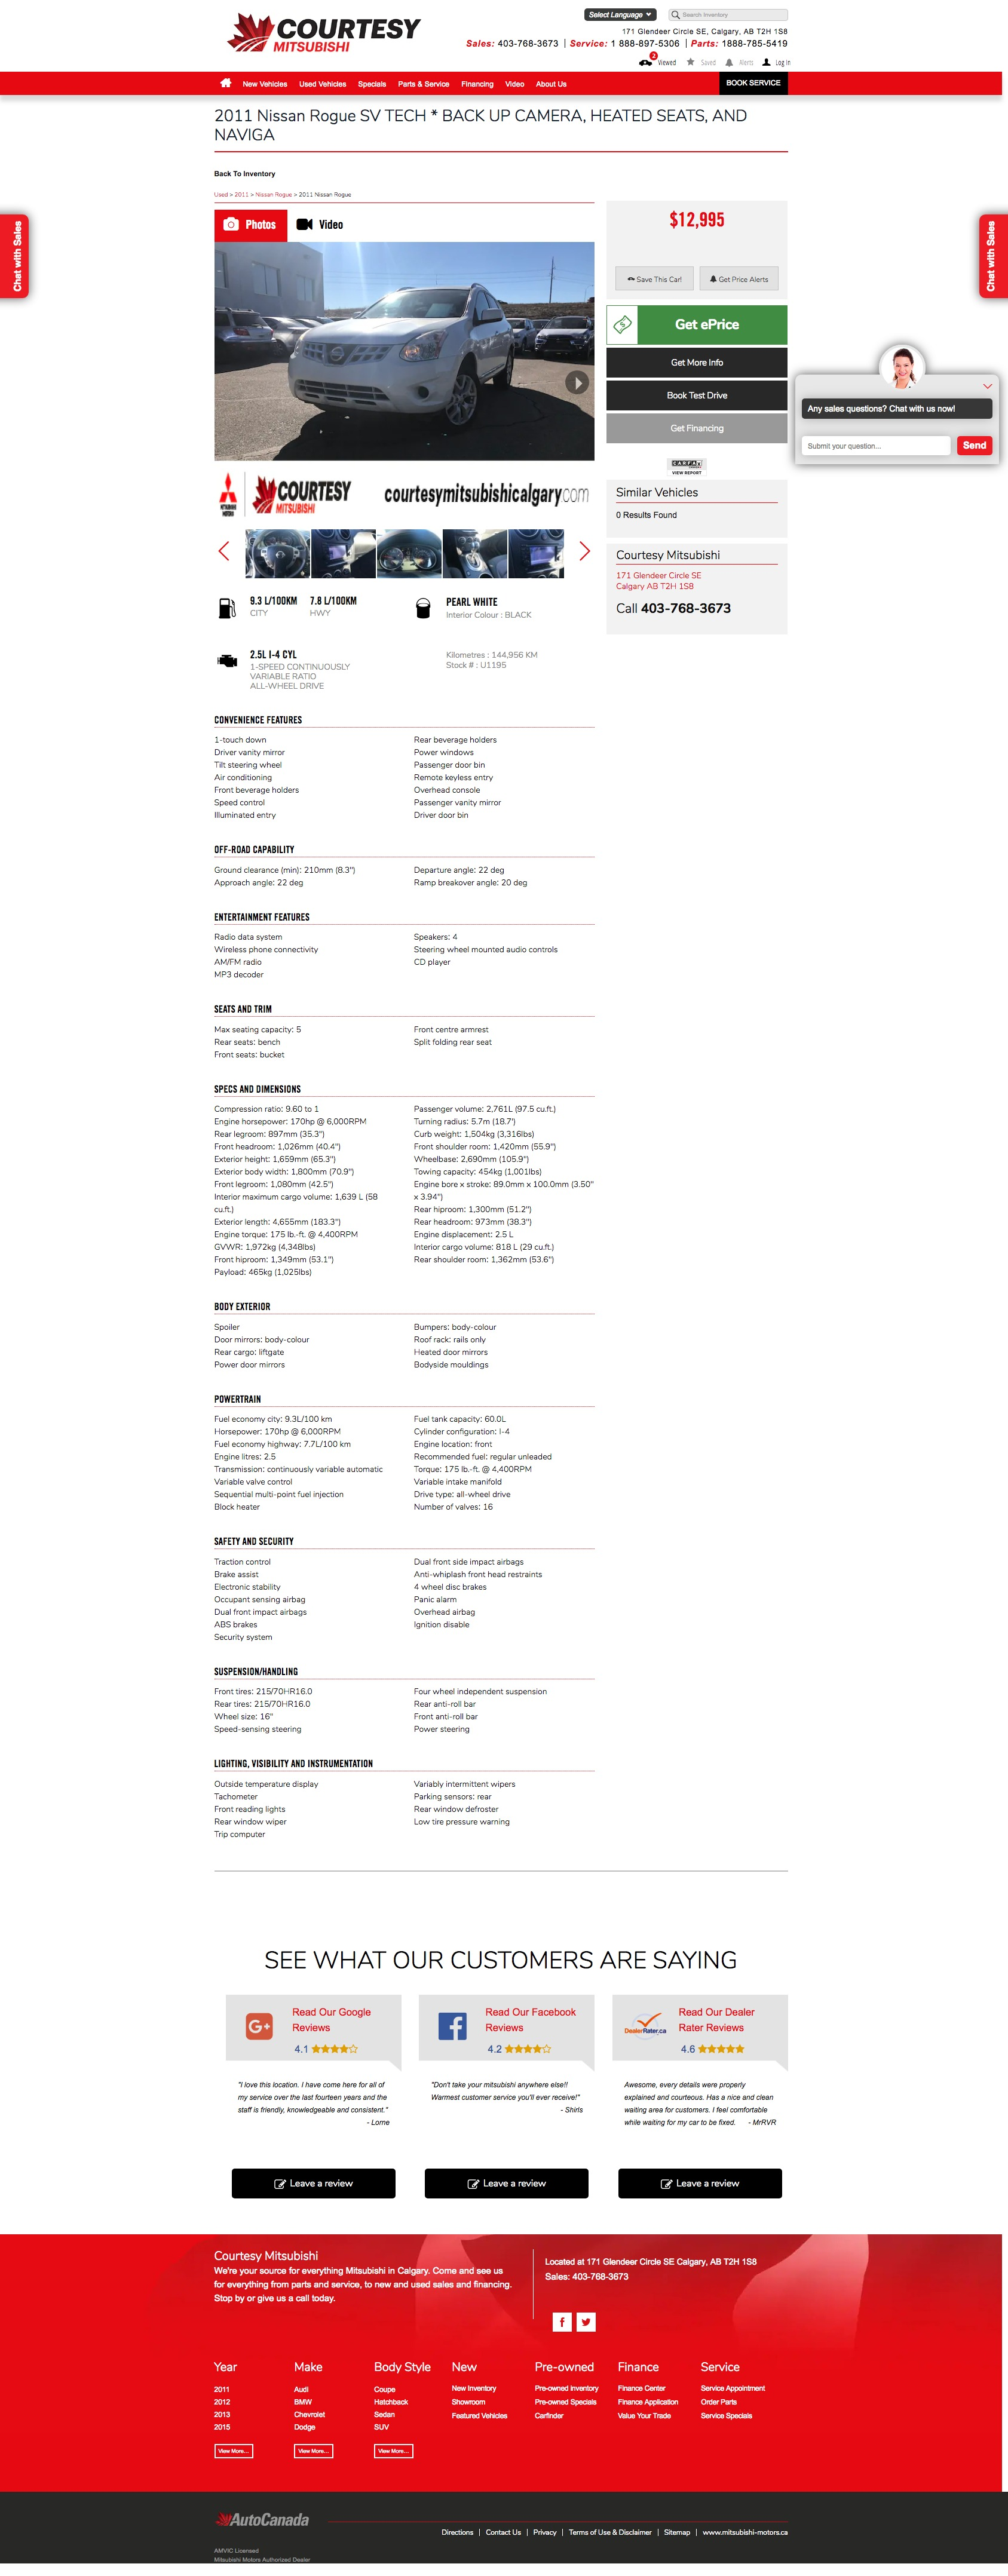car: (577, 540, 592, 562)
